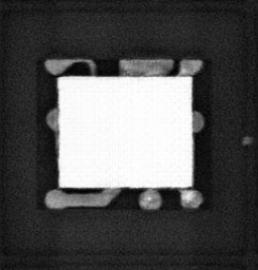DIE_INK: (240, 134, 253, 146)
